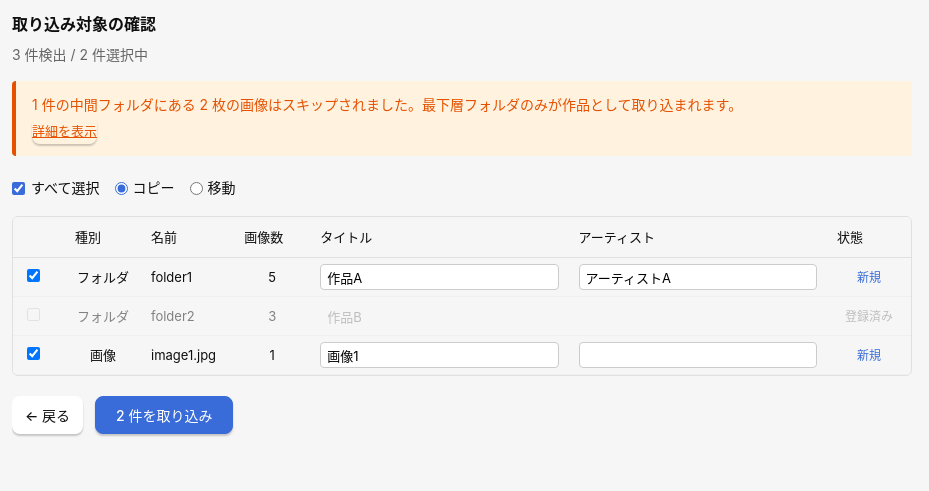
Test: BulkImportView コンポーネント › initialRootPath でのフォルダ探索 › 中間フォルダのスキップ警告が表示され詳細トグルで一覧が表示される
Expected: the text "1 件の中間フォルダにある 2 枚の画像はスキップされました。最下層フォルダのみが作品として取り込まれます。" is shown, [32,96,742,113]
Click the button "詳細を表示" at [64, 130], box [32,117,97,144]
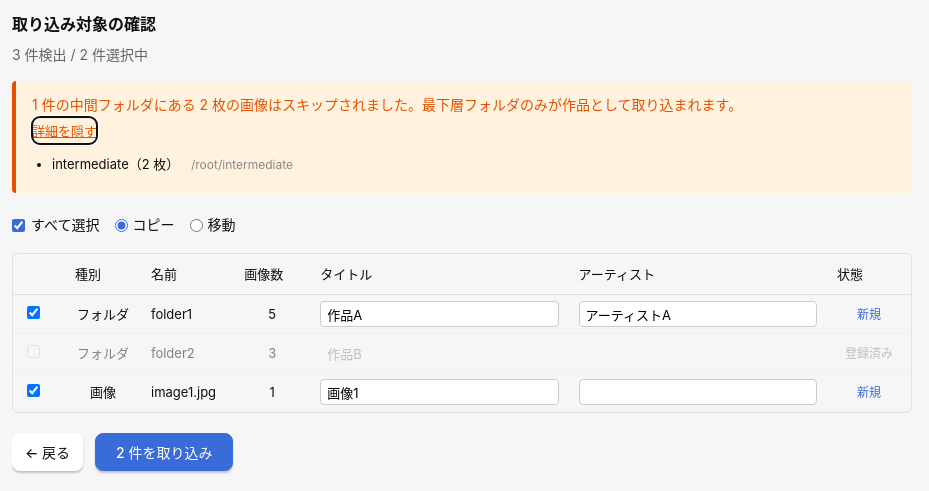
Now the list with class "bulk-skipped-list" is shown, box [52,156,293,172]
Now the list with class "bulk-skipped-list" shows "intermediate", box [52,156,183,172]
